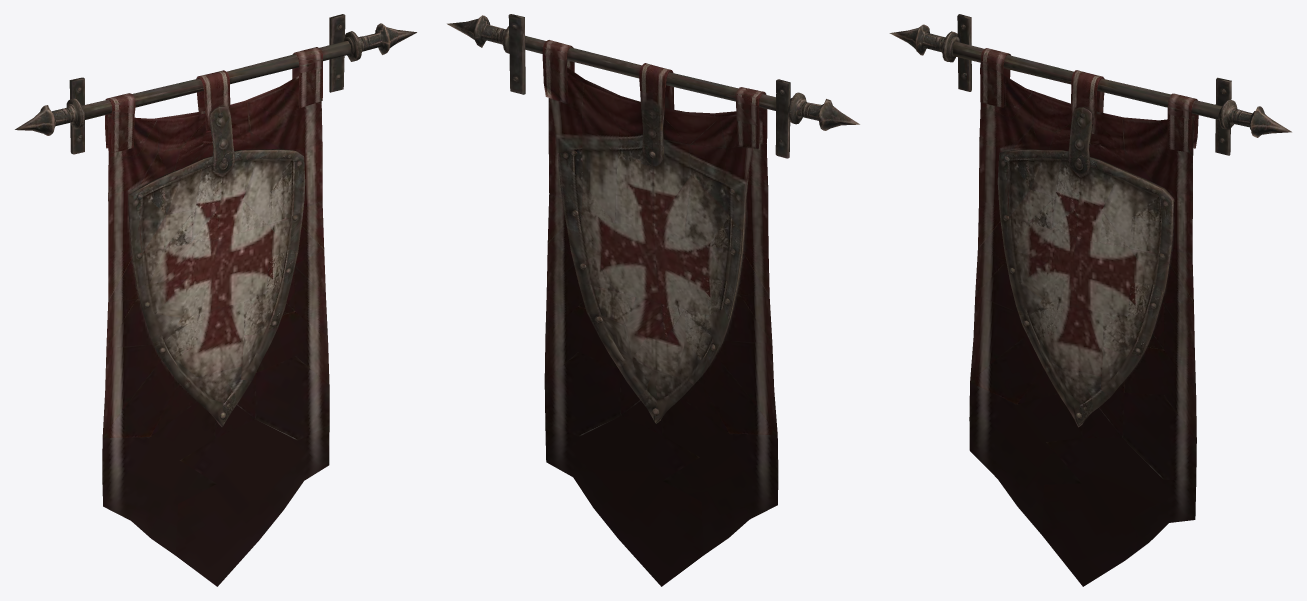
File: d_banner_shield_red.glb
3 renders of one model, left to right at view 1: azimuth 30°, elevation 25°; view 2: azimuth 150°, elevation 25°; view 3: azimuth 330°, elevation 25°, orthographic. The views are drawn at different scales.
Visible parts, largest first — view 1: d_banner_shield_red; view 2: d_banner_shield_red; view 3: d_banner_shield_red.
Boxes of the visible parts, left/top/right/bottom form: d_banner_shield_red: left=15, top=14, right=416, bottom=586; d_banner_shield_red: left=447, top=14, right=859, bottom=586; d_banner_shield_red: left=889, top=14, right=1291, bottom=586.
Bounding box in the file's own units: 2.54 × 3.2 × 0.2076.
Materials: 1 (1 with a texture image).
